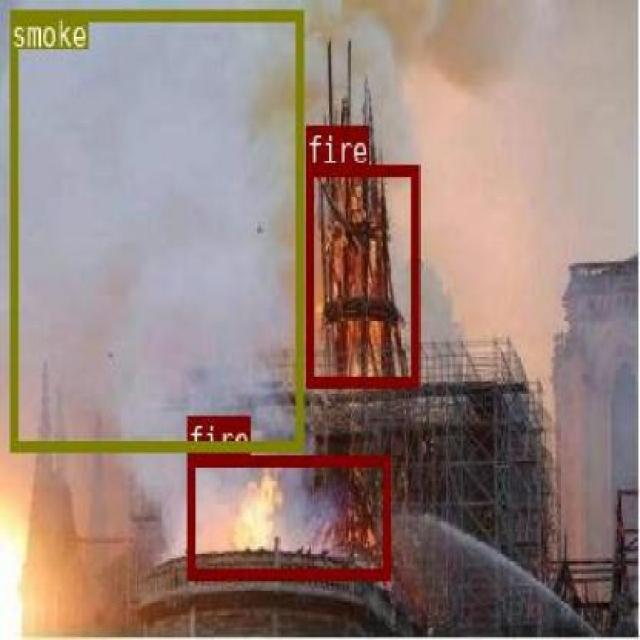Fire: (303, 125, 412, 383), (213, 477, 350, 570)
Smoke: (42, 38, 313, 457), (375, 0, 627, 383)
